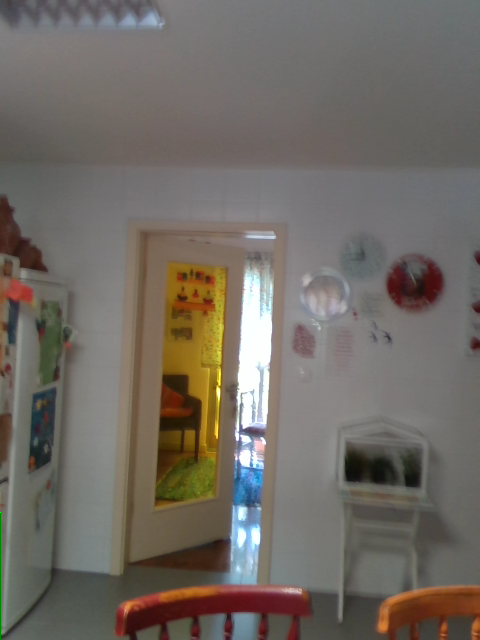semi: (114, 216, 284, 588)
